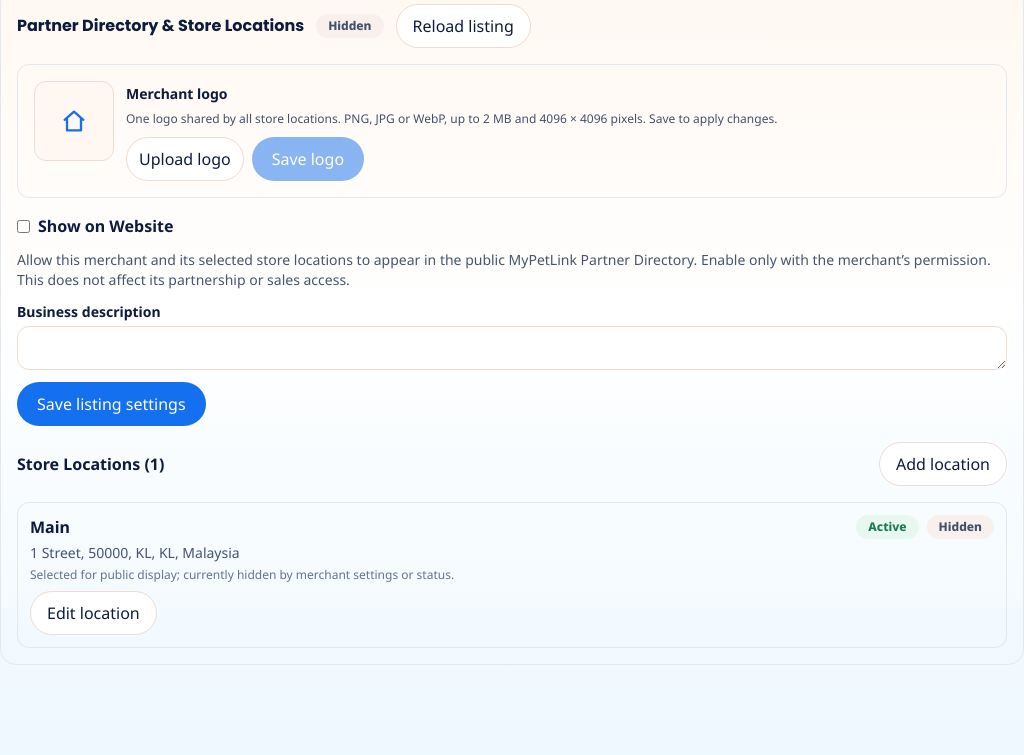
Merchant listing management › renders field validation and concurrency errors
Expected: the heading "Main" is shown, top-left (30, 515), bottom-right (70, 539)
Click the button "Edit location" at (93, 613), box top-left (30, 591), bottom-right (157, 635)
(page scrolled)
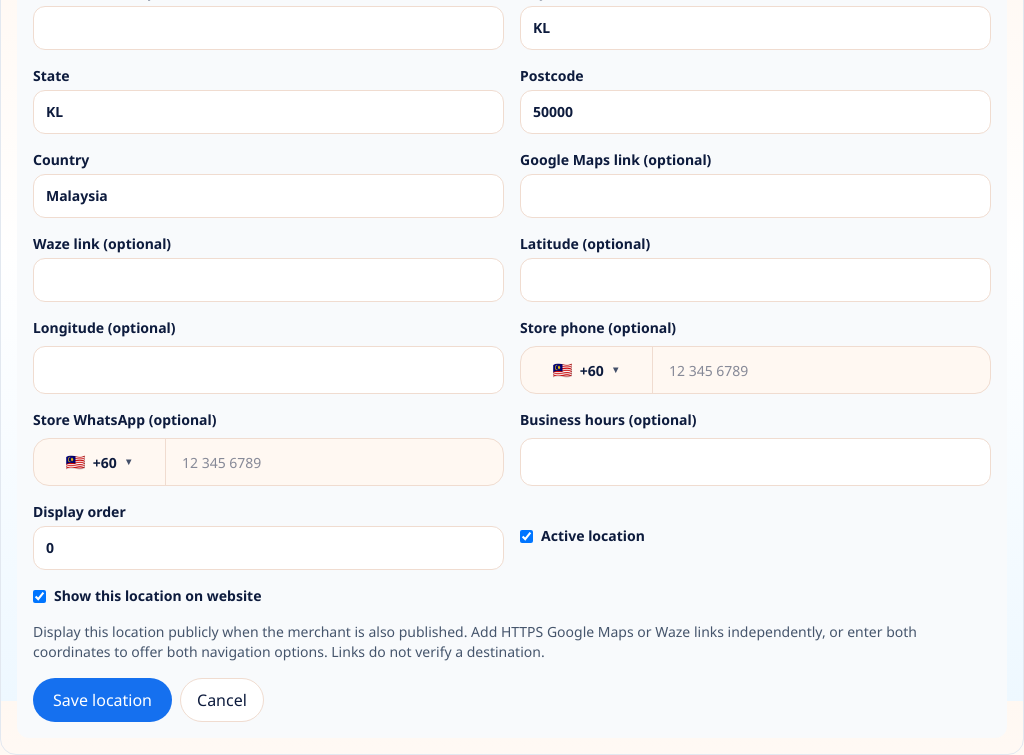
Click the button "Save location" at (102, 700), box top-left (33, 678), bottom-right (172, 722)
(page scrolled)
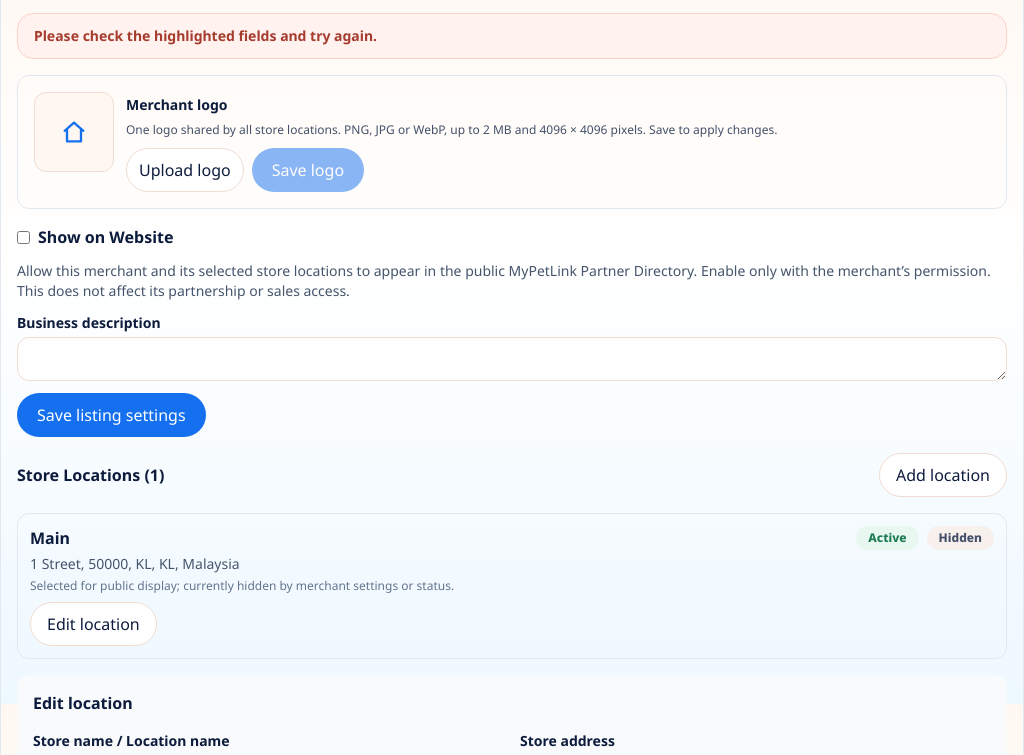
Click the button "Save listing settings" at (111, 415), box top-left (17, 393), bottom-right (206, 437)
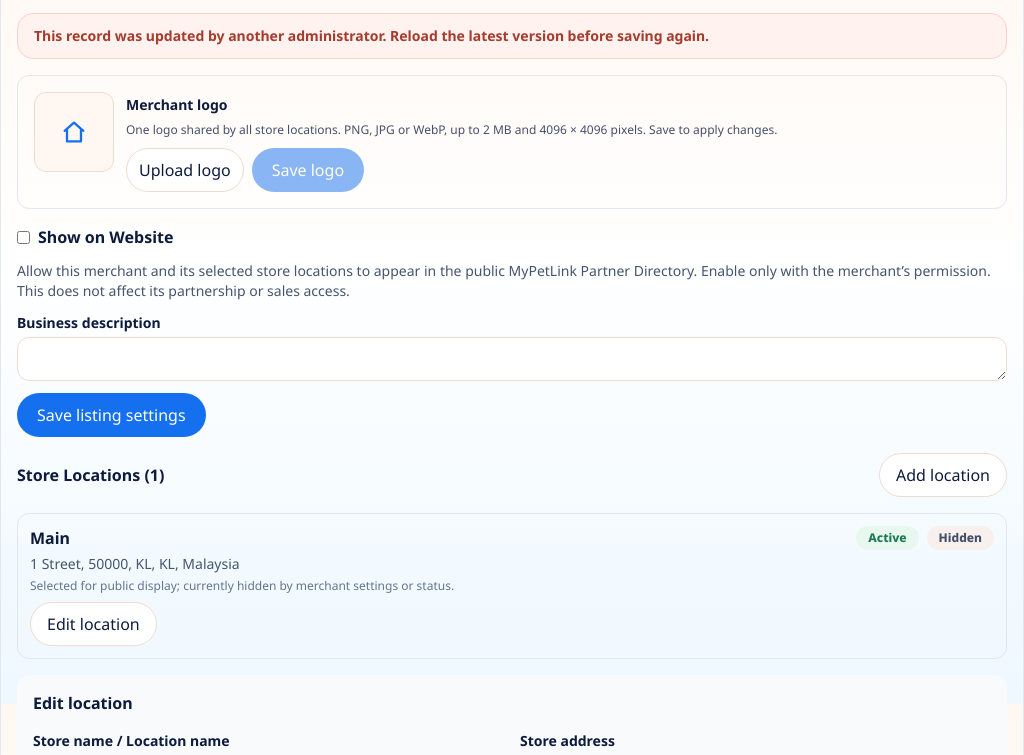
Expected: the text "updated by another administrator" is shown, top-left (34, 26), bottom-right (709, 45)
